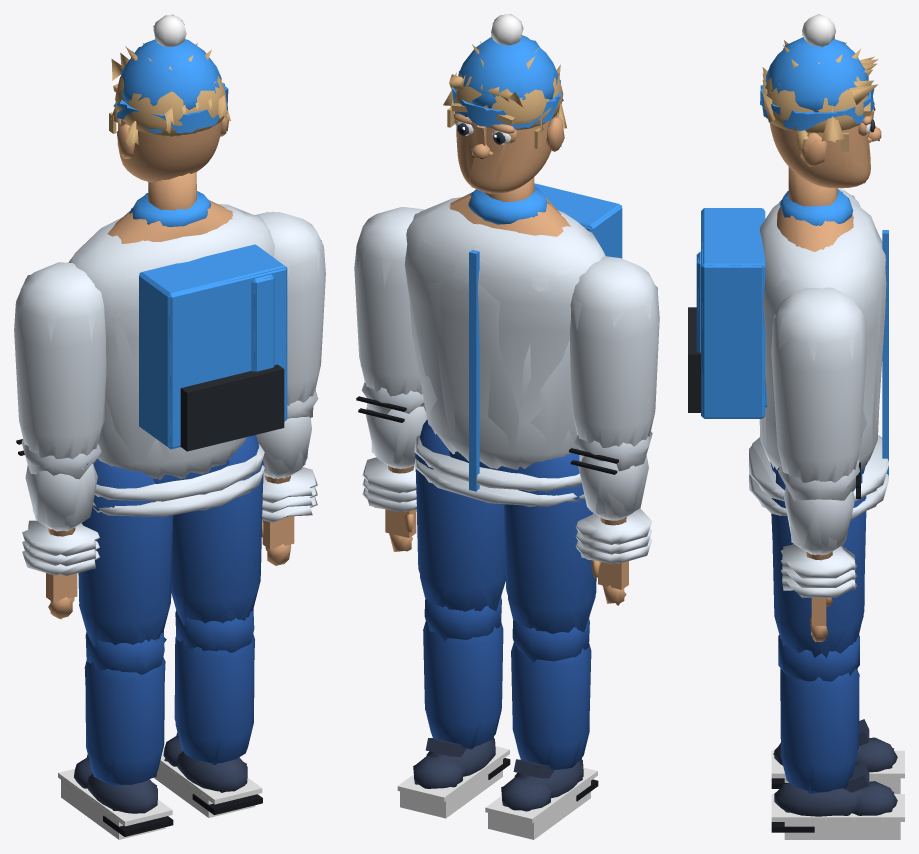
Rendered from char_frost.glb.
3 views of the same model, side by side, from view 1: azimuth 30°, elevation 25°; view 2: azimuth 150°, elevation 25°; view 3: azimuth 270°, elevation 25° (orthographic).
Visible parts, largest first — view 1: lod_low, torso_d_3fa0ff, arm_L_sleeve, torso_jacket, leg_L_pant, leg_R_pant, shin_L_pant, arm_R_sleeve, shin_R_pant, torso_d_23262c, head_beanie, head_skull (+23 smaller); view 2: lod_low, torso_jacket, arm_L_sleeve, leg_L_pant, leg_R_pant, arm_R_sleeve, shin_L_pant, shin_R_pant, head_beanie, head_skull, torso_d_3fa0ff, shin_L_d_f4f4f4 (+21 smaller); view 3: lod_low, arm_R_sleeve, torso_d_3fa0ff, torso_jacket, shin_R_pant, leg_R_pant, head_beanie, head_skull, shin_R_d_34405a, forearm_R_sleeve, shin_R_d_pants, head_hair (+16 smaller).
Boxes of the visible parts, x1,y1,x2,y2 form: lod_low: [18, 14, 321, 839]; torso_d_3fa0ff: [139, 244, 287, 449]; arm_L_sleeve: [14, 262, 106, 459]; torso_jacket: [68, 203, 274, 479]; leg_L_pant: [78, 461, 173, 645]; leg_R_pant: [171, 435, 263, 623]; shin_L_pant: [85, 657, 164, 785]; arm_R_sleeve: [256, 212, 325, 405]; shin_R_pant: [175, 637, 254, 763]; torso_d_23262c: [187, 370, 284, 451]; head_beanie: [121, 39, 221, 109]; head_skull: [118, 119, 221, 182]; lod_low: [356, 16, 657, 839]; torso_jacket: [404, 197, 605, 469]; arm_L_sleeve: [570, 256, 659, 447]; leg_L_pant: [504, 453, 596, 633]; leg_R_pant: [415, 419, 505, 611]; arm_R_sleeve: [354, 207, 423, 396]; shin_L_pant: [513, 642, 590, 768]; shin_R_pant: [425, 623, 502, 746]; head_beanie: [458, 35, 557, 108]; head_skull: [456, 115, 556, 193]; torso_d_3fa0ff: [534, 183, 622, 258]; shin_L_d_f4f4f4: [485, 767, 597, 839]; lod_low: [688, 19, 900, 839]; arm_R_sleeve: [771, 287, 866, 482]; torso_d_3fa0ff: [701, 208, 765, 418]; torso_jacket: [759, 198, 886, 469]; shin_R_pant: [780, 668, 857, 792]; leg_R_pant: [771, 467, 866, 657]; head_beanie: [765, 37, 868, 112]; head_skull: [769, 122, 870, 188]; shin_R_d_34405a: [774, 762, 897, 816]; forearm_R_sleeve: [784, 486, 854, 555]; shin_R_d_pants: [778, 635, 859, 681]; head_hair: [764, 76, 867, 132].
Size of the model in its own units: 0.8017 by 2.03 by 0.505.
